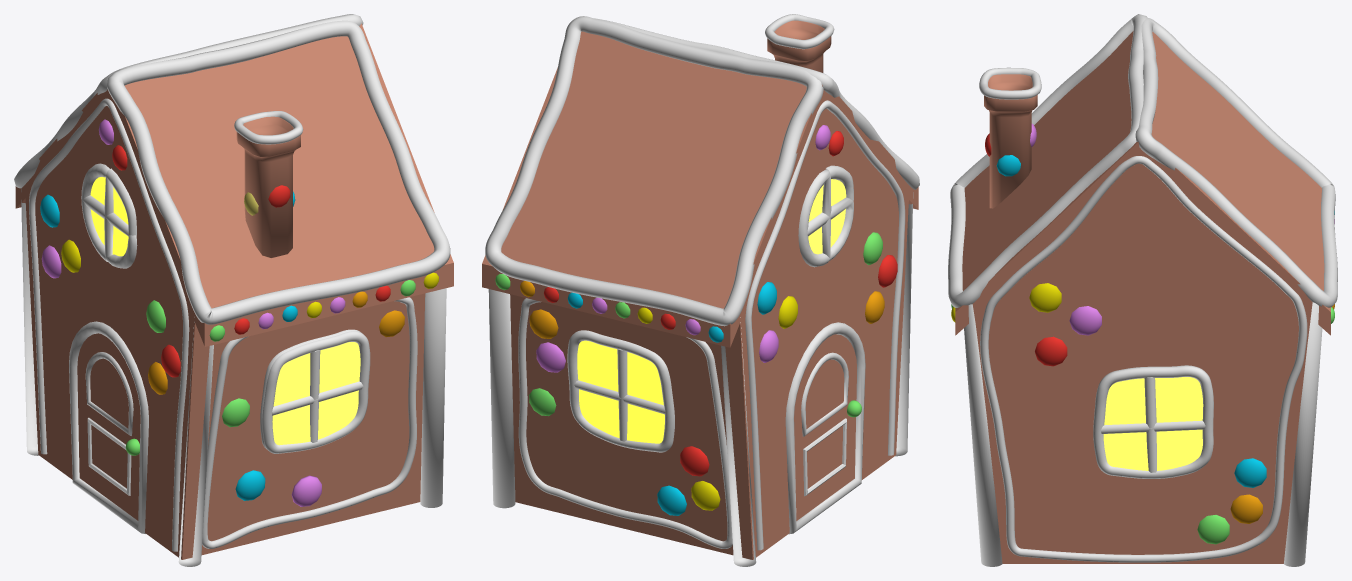
File: house.glb
3 views of the same model, side by side, from view 1: azimuth 30°, elevation 25°; view 2: azimuth 150°, elevation 25°; view 3: azimuth 270°, elevation 25° (orthographic).
Visible parts, largest first — view 1: Cube, Simple_GP_Layer, Simple_GP_Layer.019, Cylinder.001, Circle.001, Simple_GP_Layer.006, Cube.001, Simple_GP_Layer.007, Circle.003, Simple_GP_Layer.001, Cylinder.002, Sphere.023 (+5 smaller); view 2: Cube, Simple_GP_Layer.001, Simple_GP_Layer.003, Cylinder.002, Circle.001, Simple_GP_Layer.006, Simple_GP_Layer.008, Circle.003, Simple_GP_Layer, Cylinder.001, Sphere.032, Cube.001 (+7 smaller); view 3: Cube, Simple_GP_Layer.004, Simple_GP_Layer.005, Simple_GP_Layer.001, Simple_GP_Layer, Cylinder.002, Cube.001, Cylinder.001, BézierCurve, Sphere.011, Sphere.013, Sphere.016 (+3 smaller).
Boxes of the visible parts, <box> form: Cube: <box>15,23,453,559</box>; Simple_GP_Layer: <box>107,20,450,324</box>; Simple_GP_Layer.019: <box>262,331,370,453</box>; Cylinder.001: <box>178,288,446,566</box>; Circle.001: <box>69,321,148,533</box>; Simple_GP_Layer.006: <box>29,98,189,551</box>; Cube.001: <box>236,116,300,257</box>; Simple_GP_Layer.007: <box>202,297,417,548</box>; Circle.003: <box>81,163,137,268</box>; Simple_GP_Layer.001: <box>14,14,363,188</box>; Cylinder.002: <box>21,188,38,455</box>; Sphere.023: <box>209,272,438,341</box>; Cube: <box>482,31,918,559</box>; Simple_GP_Layer.001: <box>485,16,823,326</box>; Simple_GP_Layer.003: <box>567,330,674,452</box>; Cylinder.002: <box>488,289,756,566</box>; Circle.001: <box>785,322,865,534</box>; Simple_GP_Layer.006: <box>745,100,905,550</box>; Simple_GP_Layer.008: <box>518,298,732,548</box>; Circle.003: <box>798,165,853,267</box>; Simple_GP_Layer: <box>595,18,919,189</box>; Cylinder.001: <box>895,192,913,456</box>; Sphere.032: <box>495,274,723,342</box>; Cube.001: <box>767,20,831,72</box>; Cube: <box>955,31,1330,563</box>; Simple_GP_Layer.004: <box>1093,365,1213,478</box>; Simple_GP_Layer.005: <box>980,156,1307,562</box>; Simple_GP_Layer.001: <box>1135,17,1337,307</box>; Simple_GP_Layer: <box>948,14,1147,307</box>; Cylinder.002: <box>1284,302,1322,566</box>; Cube.001: <box>984,74,1037,208</box>; Cylinder.001: <box>964,304,1002,566</box>; BézierCurve: <box>979,67,1041,99</box>; Sphere.011: <box>1035,336,1067,366</box>; Sphere.013: <box>1029,283,1061,312</box>; Sphere.016: <box>1234,458,1266,487</box>.
Size of the model in its own units: 2.14 by 3.35 by 2.73.
